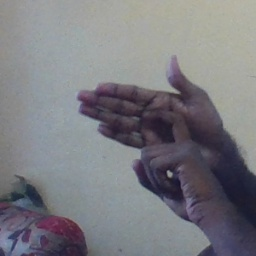R: (77, 56, 212, 187)
